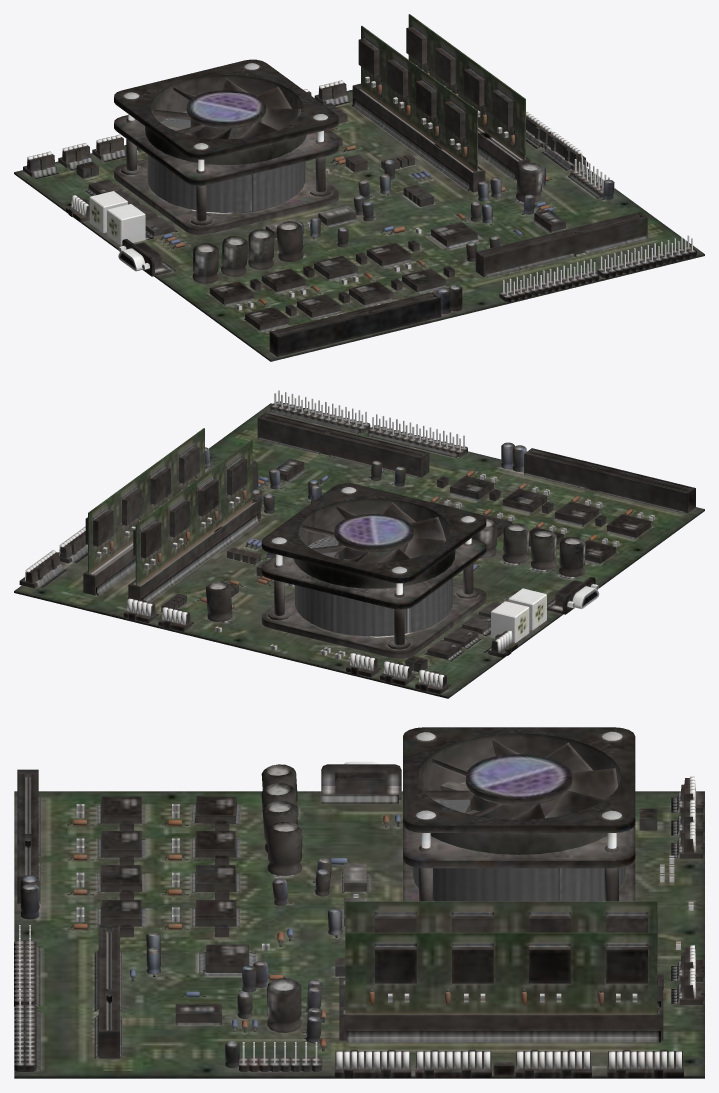
Rendered from circuit_board.glb.
3 views of the same model, one above another, from view 1: azimuth 30°, elevation 25°; view 2: azimuth 150°, elevation 25°; view 3: azimuth 270°, elevation 25° (orthographic). The views are drawn at different scales.
Parts seen in each view (by area): view 1: circuit_board; view 2: circuit_board; view 3: circuit_board.
Part boxes in pixels (<box>): circuit_board: <box>14,14,704,361</box>; circuit_board: <box>14,390,704,698</box>; circuit_board: <box>14,727,704,1078</box>.
Bounding box in the file's own units: 0.4035 × 0.0783 × 0.3974.
Materials: 2 (2 with a texture image).
